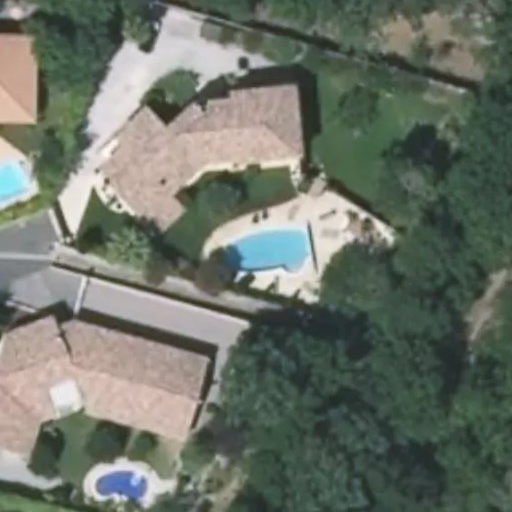pool: (210, 237, 303, 248)
